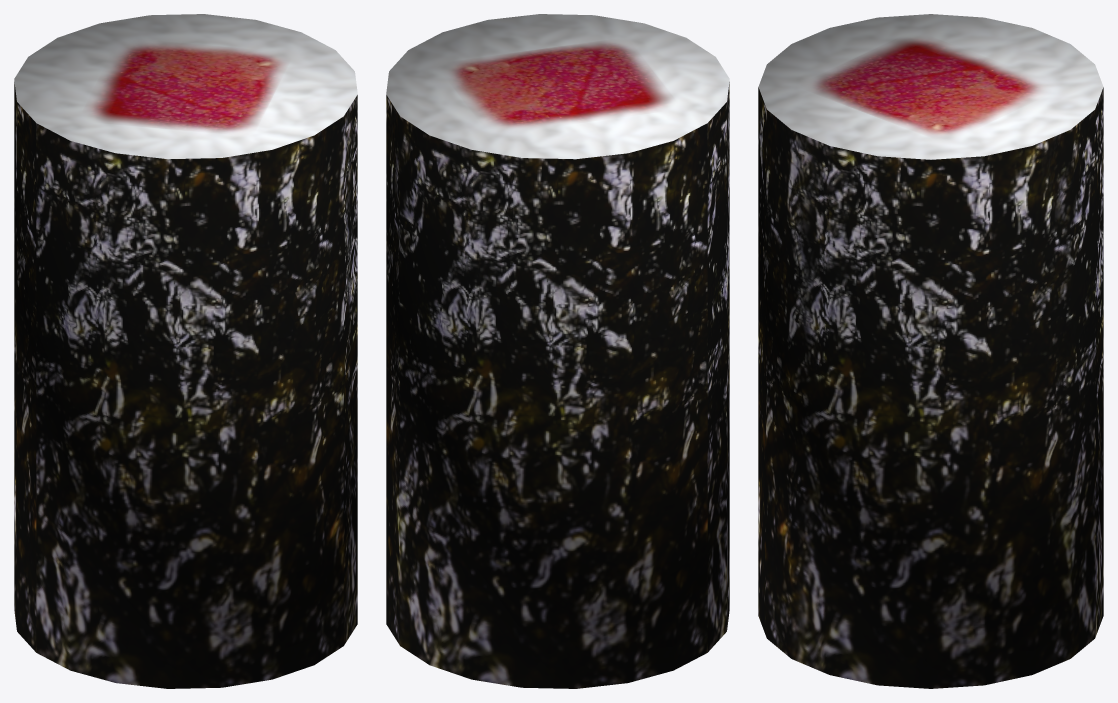
Rendered from tekka.fbx.
3 renders of one model, left to right at view 1: azimuth 30°, elevation 25°; view 2: azimuth 150°, elevation 25°; view 3: azimuth 270°, elevation 25°, orthographic.
Parts seen in each view (by area): view 1: tekka; view 2: tekka; view 3: tekka.
Boxes of the visible parts, x1,y1,x2,y2 form: tekka: (14, 14, 357, 688); tekka: (386, 14, 729, 688); tekka: (758, 14, 1103, 688).
Bounding box in the file's own units: 3 × 5.08 × 3.
